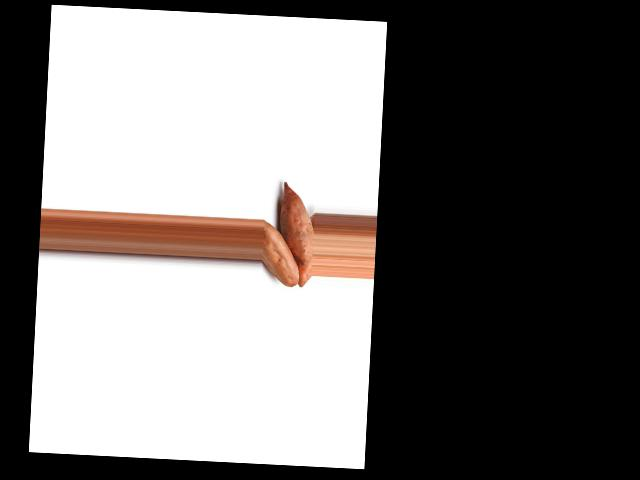sweet_potato: (260, 216, 301, 287)
